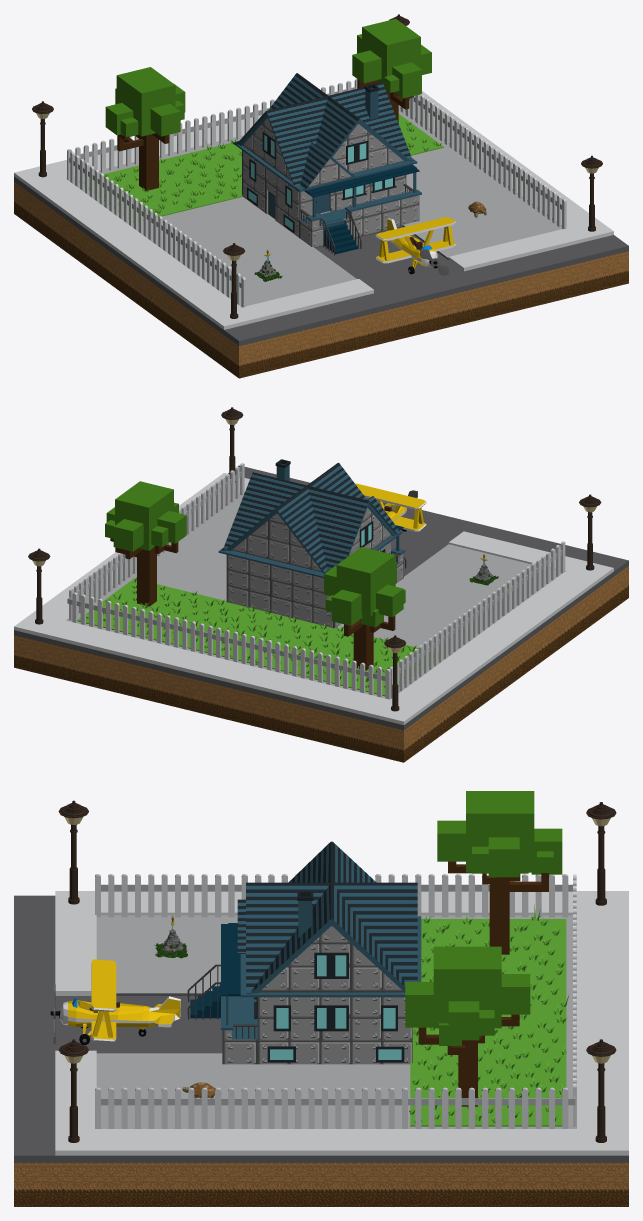
3 renders of one model, top to bottom at view 1: azimuth 30°, elevation 25°; view 2: azimuth 150°, elevation 25°; view 3: azimuth 270°, elevation 25°, orthographic. The views are drawn at different scales.
Visible parts, largest first — view 1: Cube.004, Cube.078, VEHICLES_AIRPLANE; view 2: Cube.004, Cube.078, VEHICLES_AIRPLANE; view 3: Cube.004, Cube.078, VEHICLES_AIRPLANE, OBJRANDOM_SWORD_IN_THE_STONE.
Part boxes in pixels (<box>): Cube.004: <box>14,14,628,378</box>; Cube.078: <box>233,73,421,255</box>; VEHICLES_AIRPLANE: <box>375,217,456,275</box>; Cube.004: <box>14,407,628,762</box>; Cube.078: <box>218,459,406,627</box>; VEHICLES_AIRPLANE: <box>355,483,426,532</box>; Cube.004: <box>14,791,628,1206</box>; Cube.078: <box>187,841,421,1064</box>; VEHICLES_AIRPLANE: <box>50,959,180,1044</box>; OBJRANDOM_SWORD_IN_THE_STONE: <box>154,915,187,958</box>.
Bounding box in the file's own units: 4000 × 1604 × 4000.
Materials: 42 (5 with a texture image).
